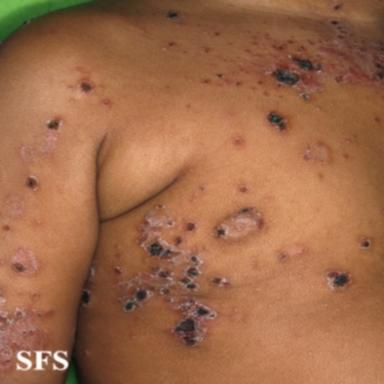Impetigo: (156, 8, 382, 105), (106, 202, 233, 349), (0, 283, 56, 375), (60, 64, 114, 109), (19, 114, 66, 165), (211, 205, 268, 245), (80, 259, 105, 309), (8, 244, 42, 279), (298, 139, 335, 167), (263, 109, 295, 136), (0, 190, 27, 220), (322, 268, 353, 293), (277, 244, 310, 263), (24, 173, 41, 193), (355, 235, 373, 252), (237, 183, 251, 195)
